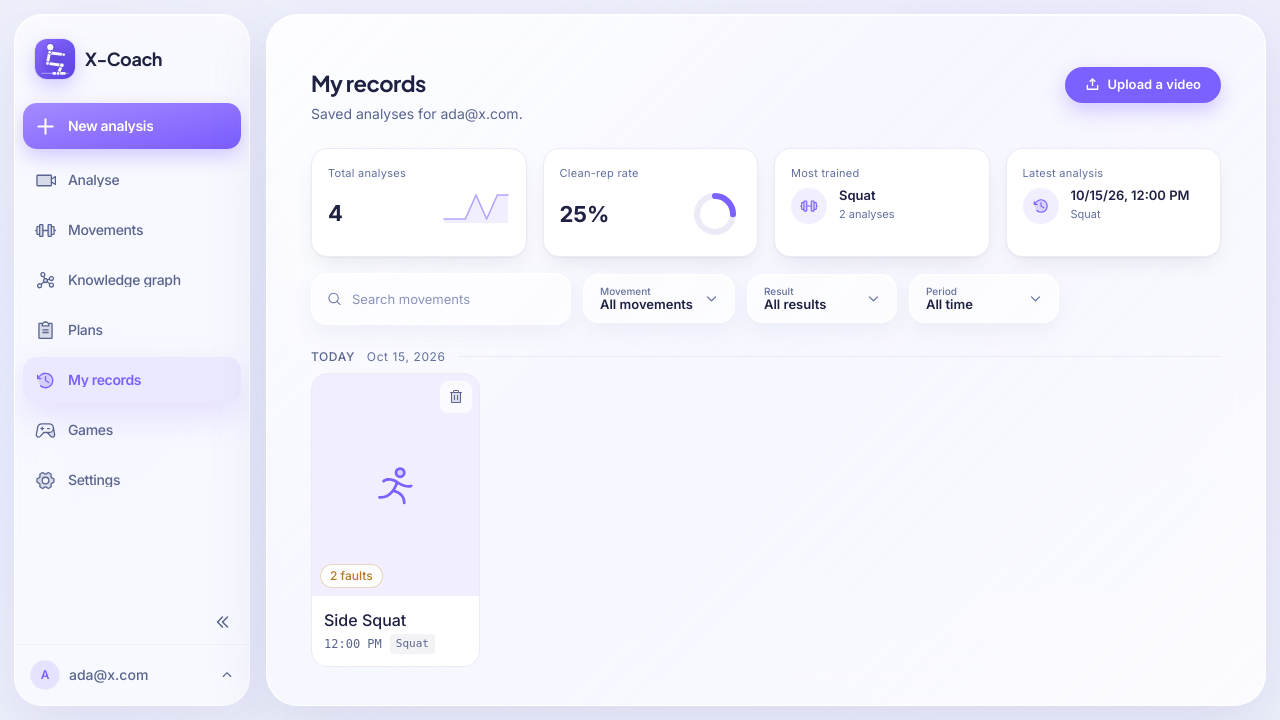
Test: History — filters › distinguishes an empty filter result from an empty history
Expected: the text "Total analyses" is shown, [328,166,406,180]
Type "zzzz" into the search field labelled "Search movements" at (441, 298), box [311,272,571,324]
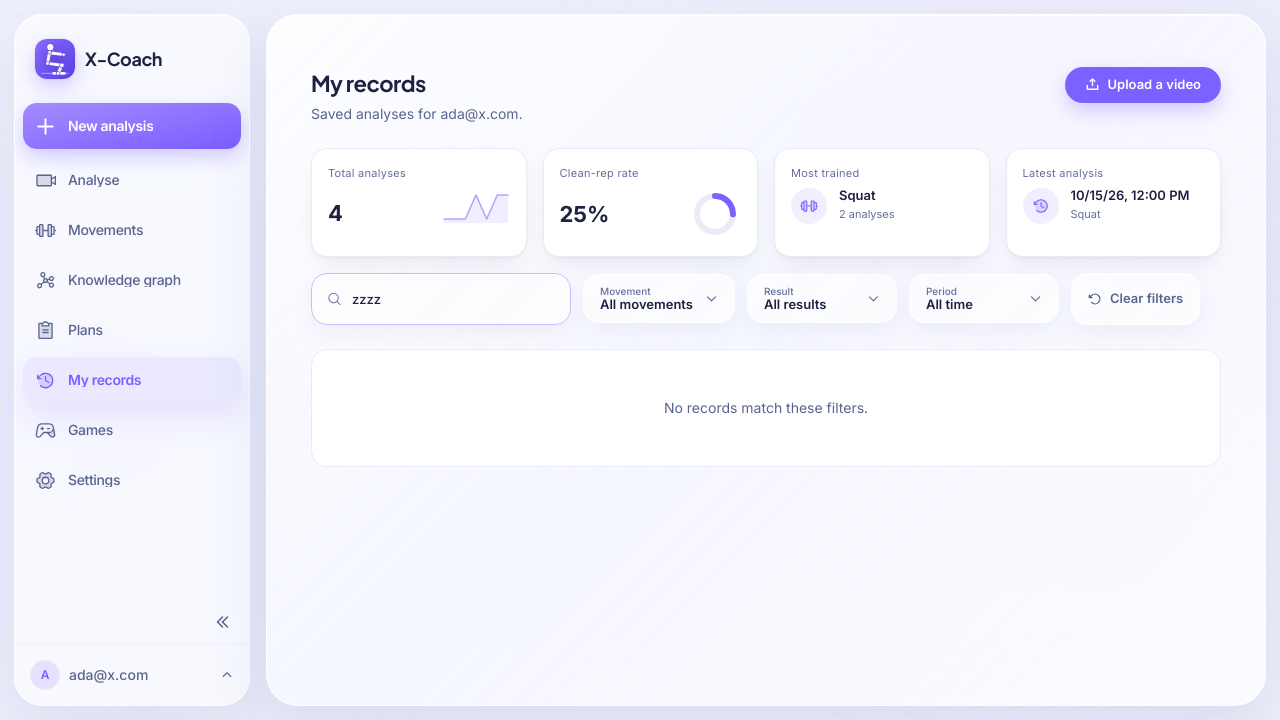
Now the text "No records match these filters." is shown, box [311,348,1221,466]
